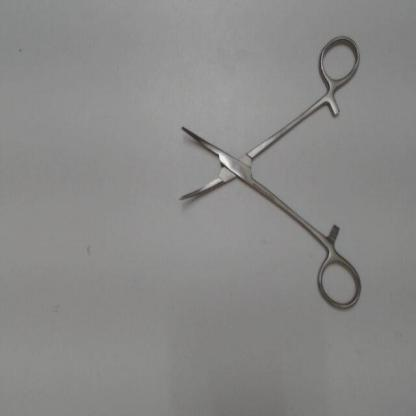Crile Artery Forceps: (167, 31, 366, 318)
